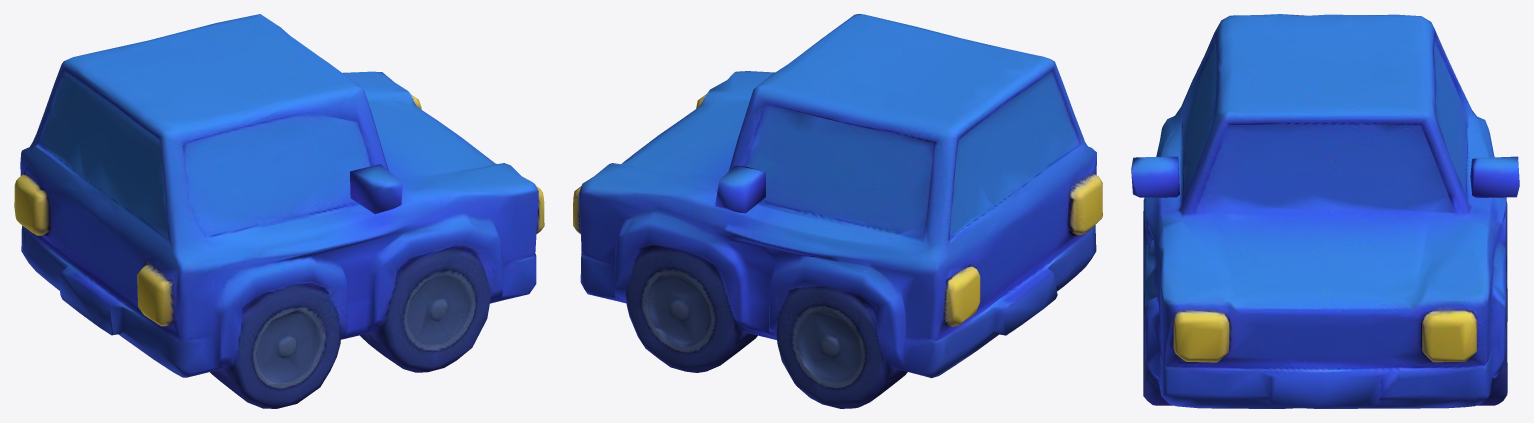
Rendered from car.glb.
3 views of the same model, side by side, from view 1: azimuth 30°, elevation 25°; view 2: azimuth 150°, elevation 25°; view 3: azimuth 270°, elevation 25° (orthographic).
Visible parts, largest first — view 1: tripo_node_f63ac0fc-9cdc-4a10-a3b0-b381de5551e0; view 2: tripo_node_f63ac0fc-9cdc-4a10-a3b0-b381de5551e0; view 3: tripo_node_f63ac0fc-9cdc-4a10-a3b0-b381de5551e0.
Boxes of the visible parts, <box> form: tripo_node_f63ac0fc-9cdc-4a10-a3b0-b381de5551e0: <box>14,14,544,408</box>; tripo_node_f63ac0fc-9cdc-4a10-a3b0-b381de5551e0: <box>573,14,1102,408</box>; tripo_node_f63ac0fc-9cdc-4a10-a3b0-b381de5551e0: <box>1131,14,1519,408</box>.
Bounding box in the file's own units: 1 × 0.6719 × 0.866.
Materials: 1 (1 with a texture image).
